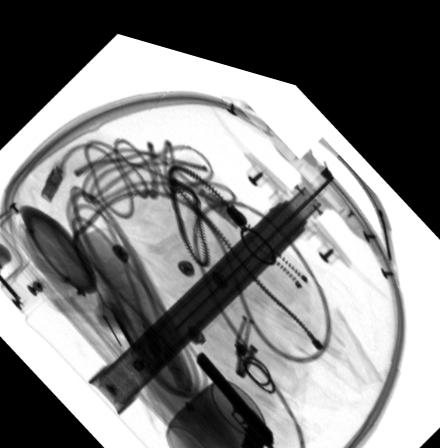Gun: (196, 339, 275, 448)
